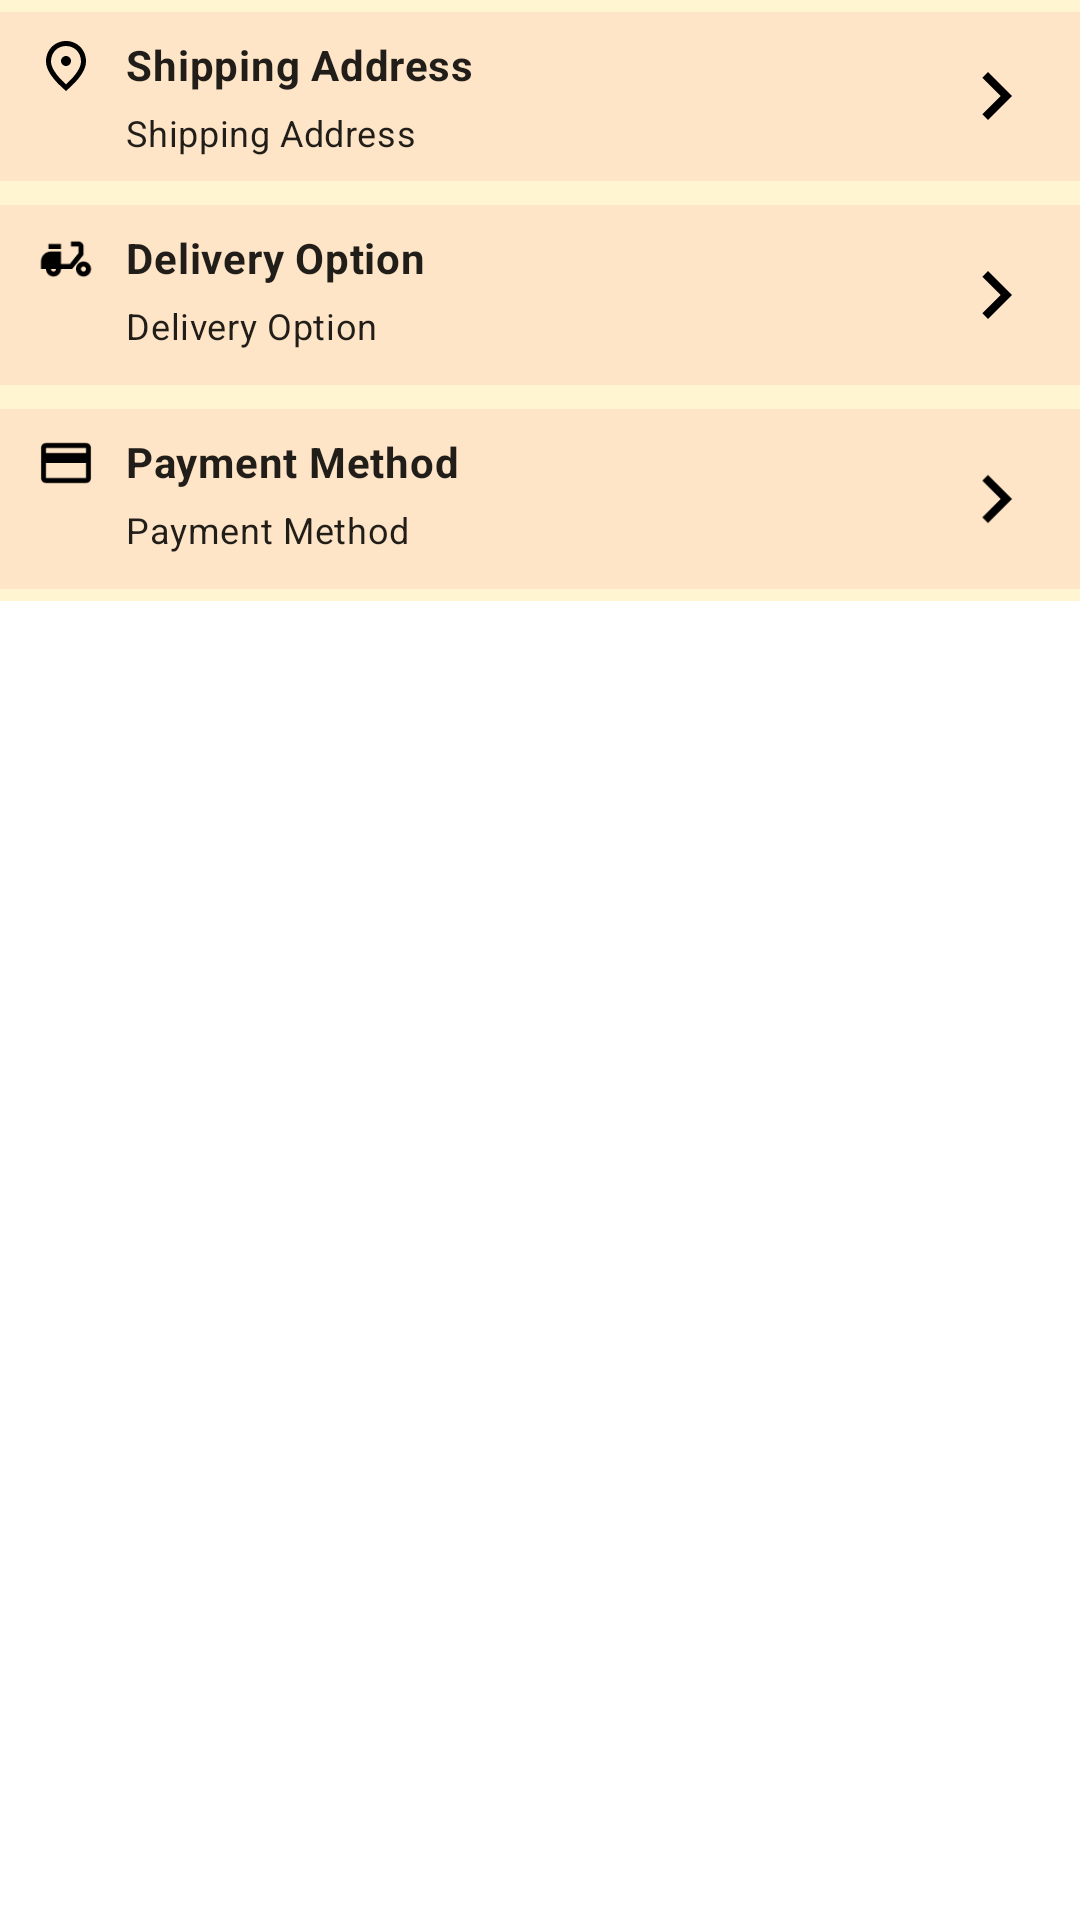

Where icons sit on this 1080*1920 app screen, as (x1, y1, x2, y2):
next: (982, 72, 1012, 120), (982, 271, 1012, 319), (982, 475, 1012, 523)
place: (46, 41, 86, 91)
